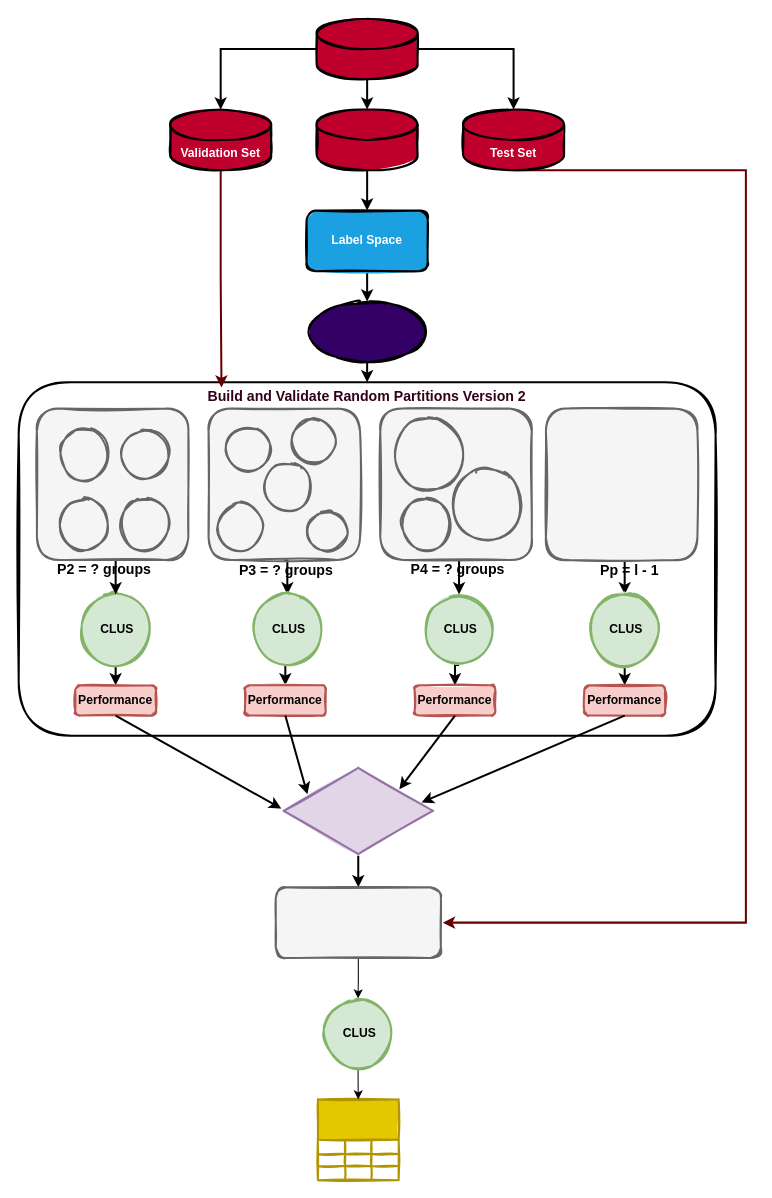
Some shapes in this 772 by 1198 pixel diagram are drawn without their labels. The shapes that lost their labels are listed below. From the top down, each one's box as (x1, y1, x2, y2) in pixels, then its label:
(315, 17, 418, 80): Dataset
(315, 108, 418, 171): Train Set
(305, 300, 428, 363): Generate Random Partitions V2
(282, 765, 433, 856): Best Random Partition Version 2: Macro-F1
(274, 886, 441, 958): Build and Test the best random partition version 2
(316, 1098, 399, 1181): Results
